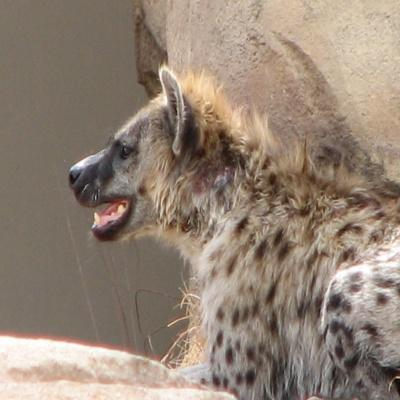hyenas: (59, 89, 400, 400)
